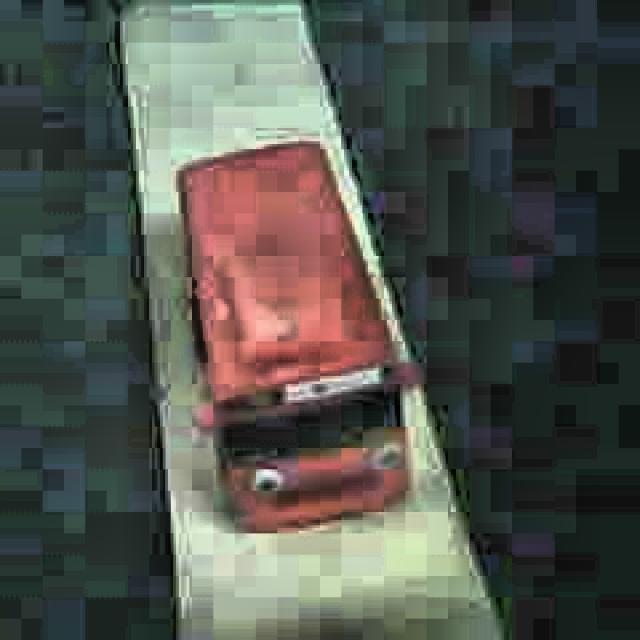bus: (176, 138, 422, 537)
